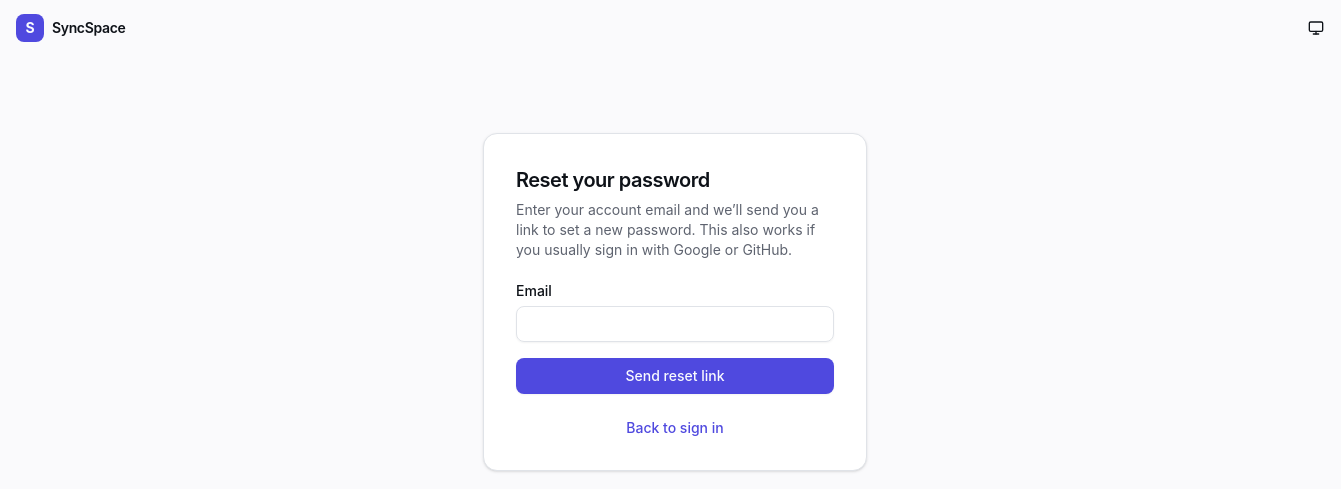
Scenario: forgot and reset password › always shows the same confirmation after requesting a reset
Check: the heading "Reset your password" is shown, box [516, 168, 710, 192]
Type "ada@example.com" into the field labelled "Email".
click(675, 324); type("ada@example.com")  # box [516, 306, 834, 342]
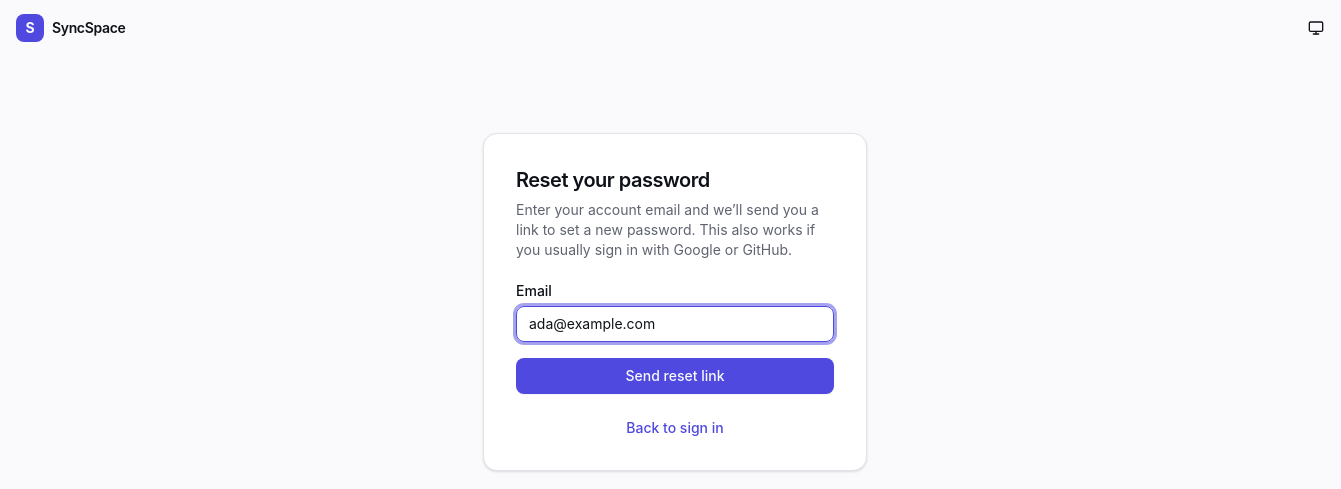
Click the button "Send reset link".
click(675, 376)  # box [516, 358, 834, 394]
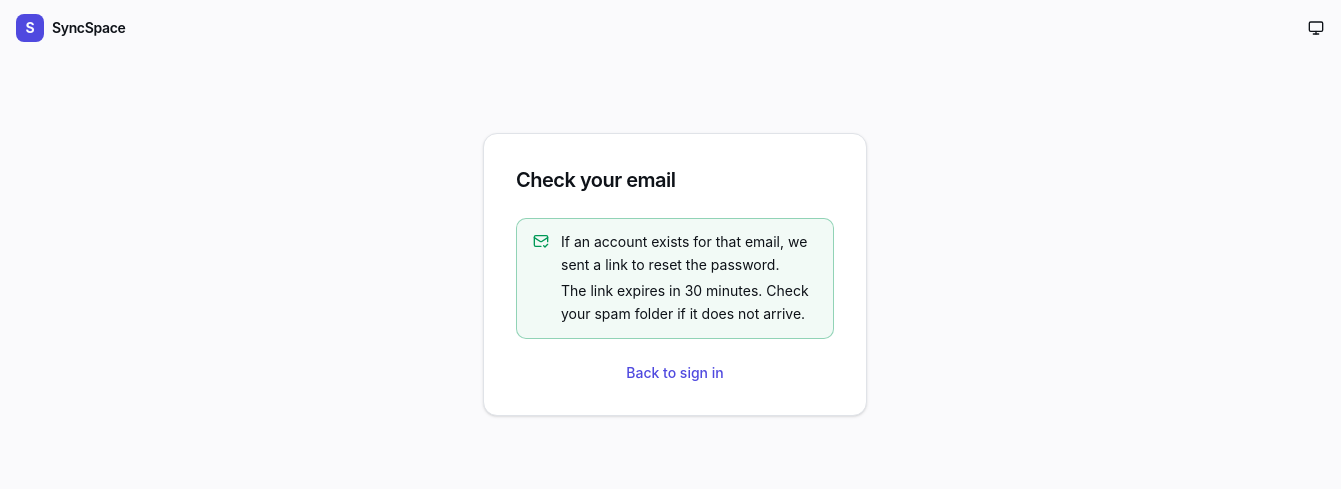
Check: the heading "Check your email" is shown, box [516, 168, 676, 192]
Check: the text "If an account exists for that email" is shown, box [561, 233, 807, 273]
